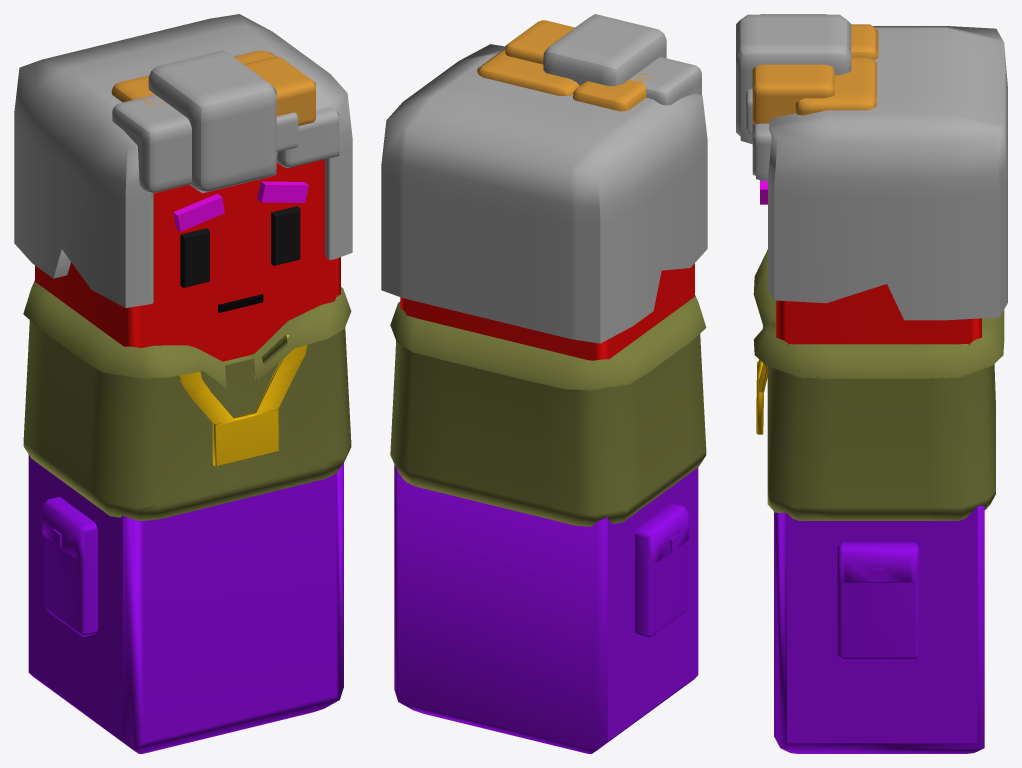
The model's file is Office Level Clegg.fbx.
3 renders of one model, left to right at view 1: azimuth 30°, elevation 25°; view 2: azimuth 150°, elevation 25°; view 3: azimuth 270°, elevation 25°, orthographic. The views are drawn at different scales.
Visible parts, largest first — view 1: PantA_W_Pocket1; view 2: PantA_W_Pocket1; view 3: PantA_W_Pocket1.
Boxes of the visible parts, box(x1,y1,x2,y2) form: PantA_W_Pocket1: box(14, 14, 352, 753); PantA_W_Pocket1: box(381, 14, 707, 753); PantA_W_Pocket1: box(736, 14, 1007, 753).
Size of the model in its own units: 99.46 by 241 by 88.19.
